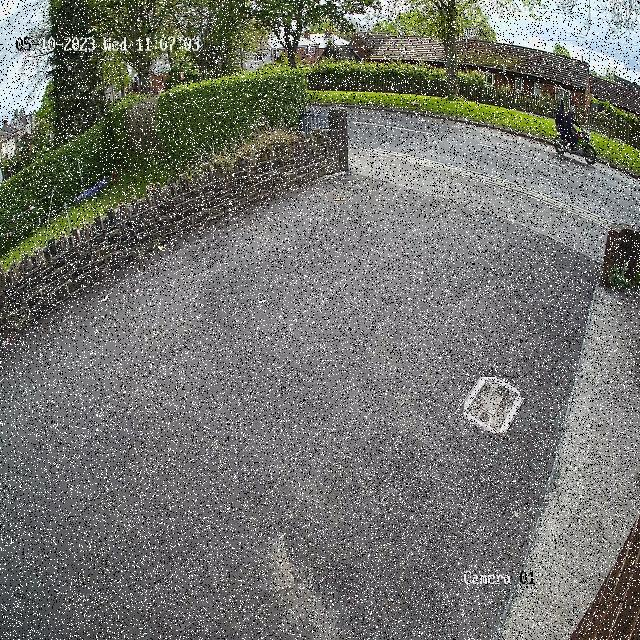vehicle: (544, 97, 603, 176)
